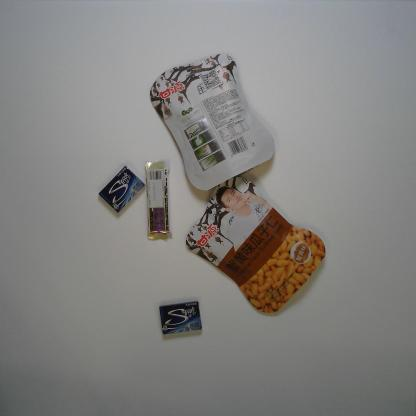Chocolate: (145, 160, 170, 241)
Dried Fruit: (185, 176, 326, 314), (149, 51, 276, 191)
Gum: (98, 165, 145, 213), (159, 300, 202, 335)
